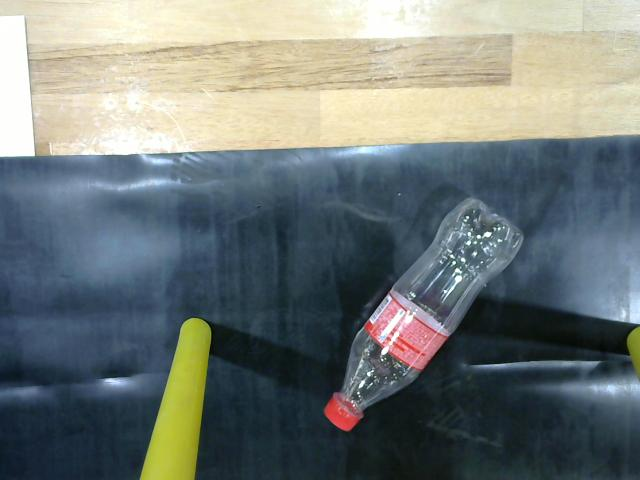bottle: (323, 193, 529, 432)
